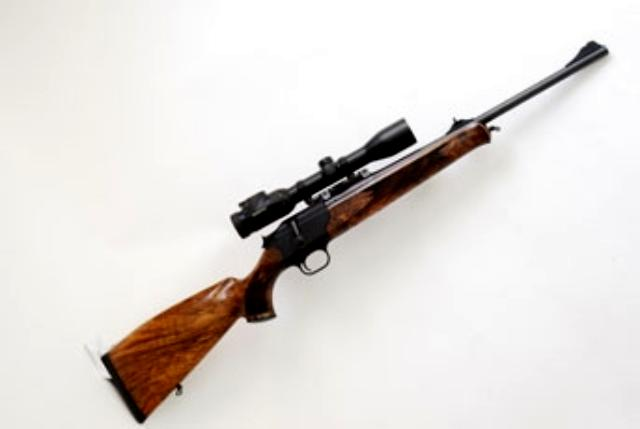rifle: (95, 42, 610, 425)
